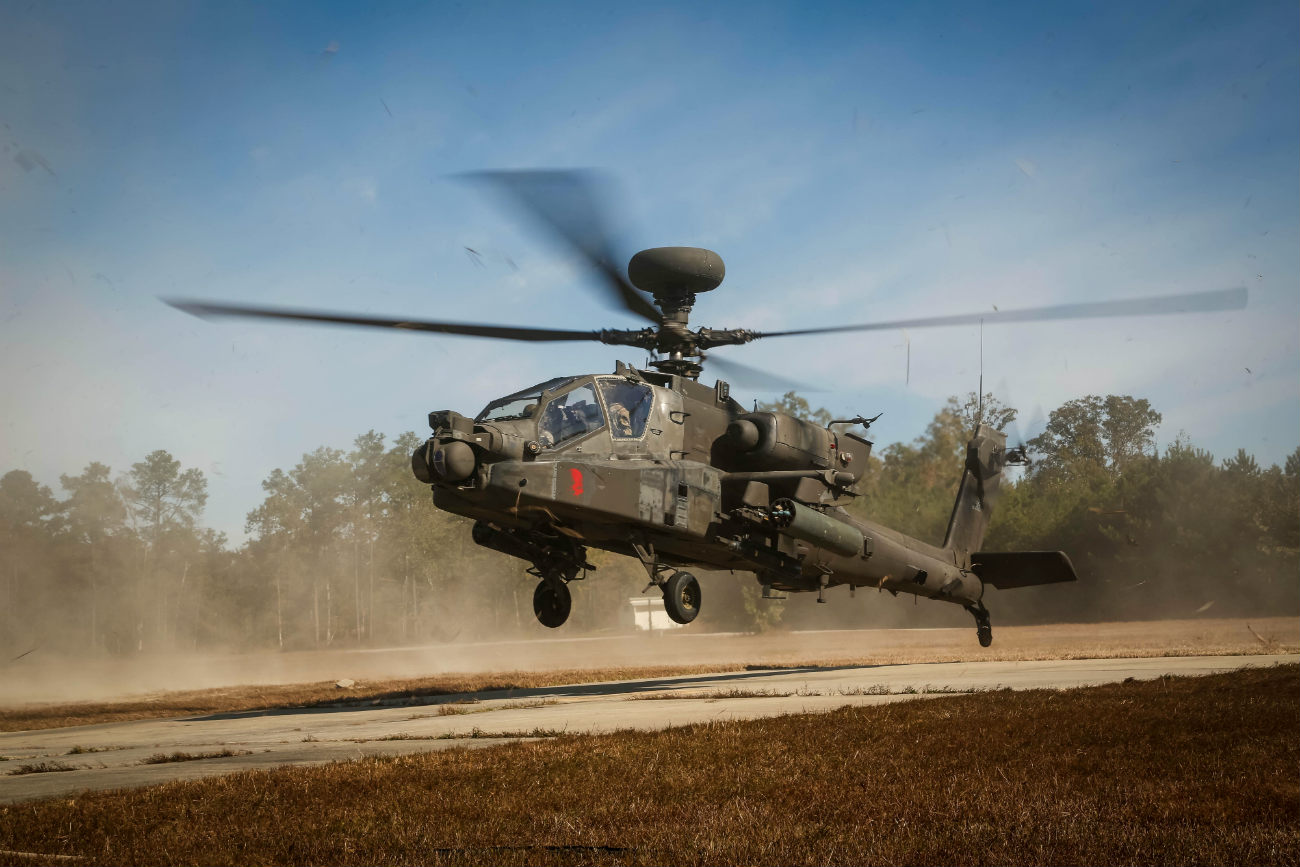MilitaryHelicopter: (435, 291, 1069, 659)
